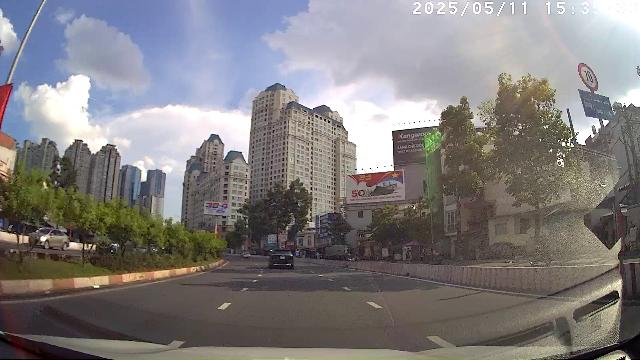127-toc-do-toi-da-70: (578, 62, 599, 91)
